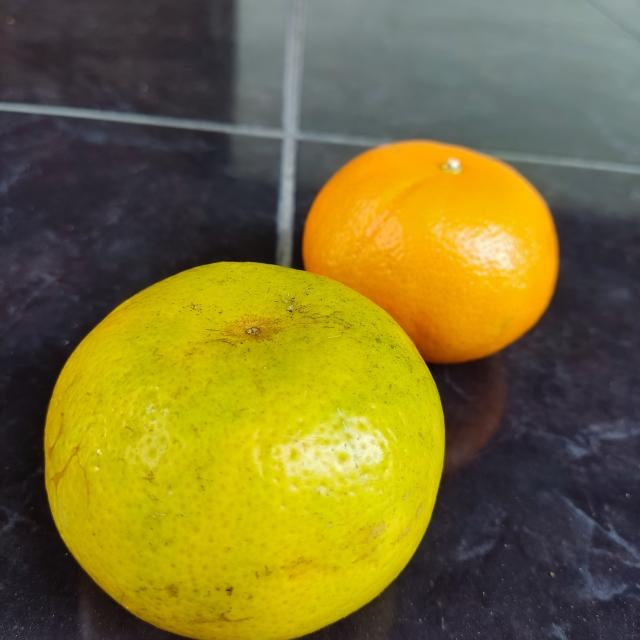agrume: (36, 257, 453, 640), (301, 135, 560, 368)
